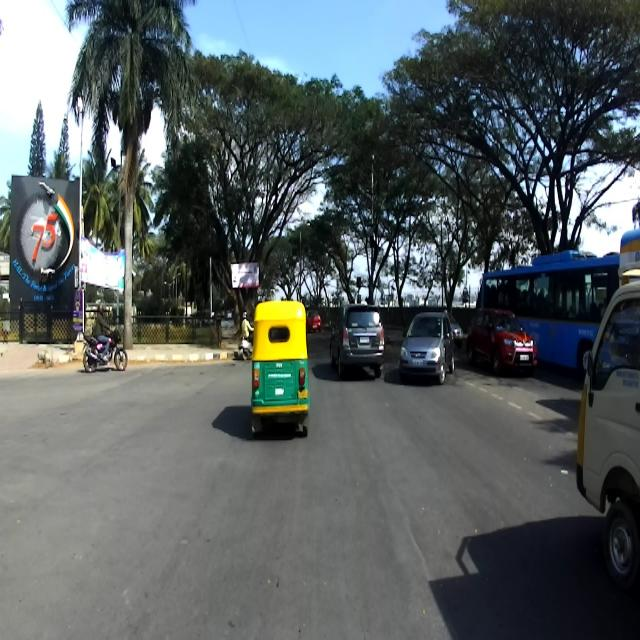autorickshaw: (250, 299, 308, 438)
bus: (481, 249, 621, 383)
car: (466, 306, 538, 377), (329, 301, 385, 378), (398, 309, 455, 384)
motorcycle: (82, 325, 127, 372)
